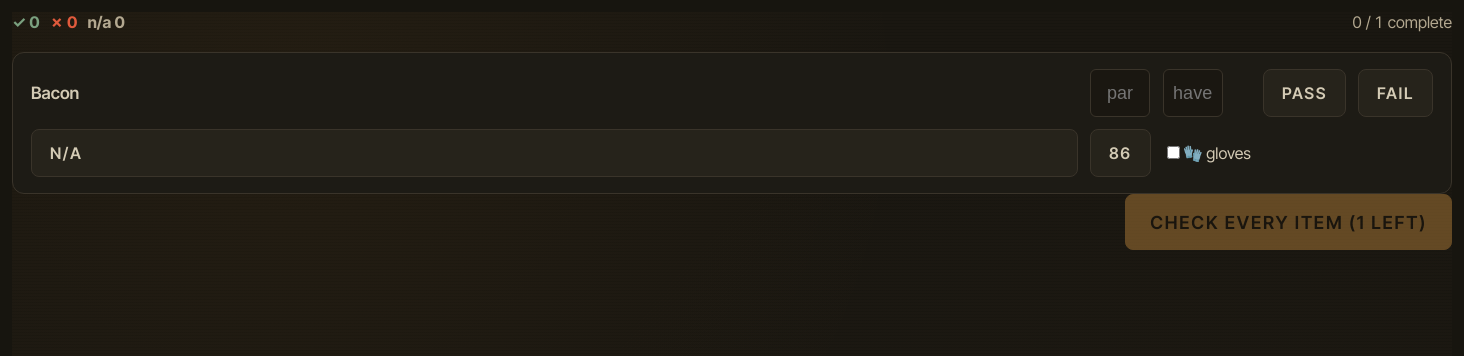
Scenario: StationChecklist status buttons › failed pass write rolls the visible status back to empty
Click the button with aria-label "Pass Bacon" at (1304, 93), box [1263, 69, 1346, 117]
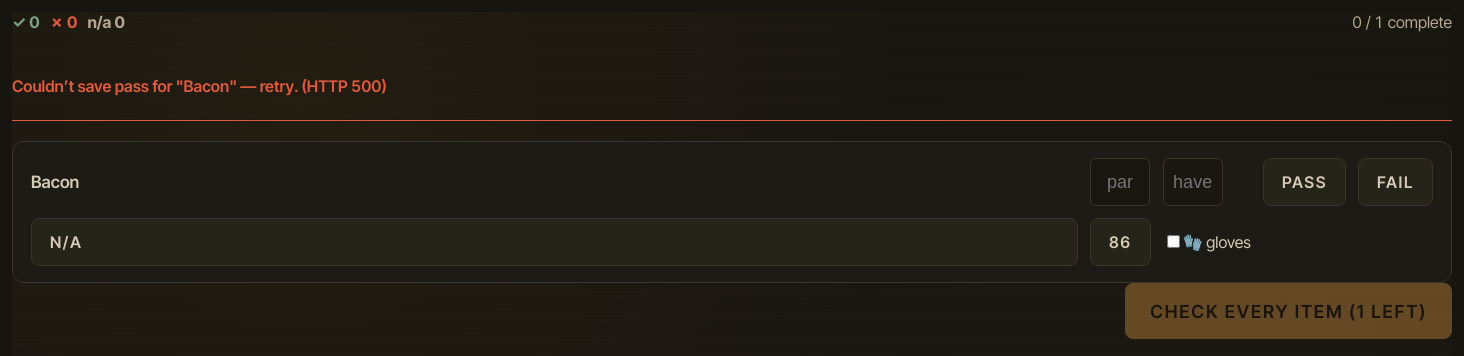
Expected: the message "Couldn’t save pass for \"Bacon\" — retry. (HTTP 500)" is shown, [12, 52, 1452, 121]
